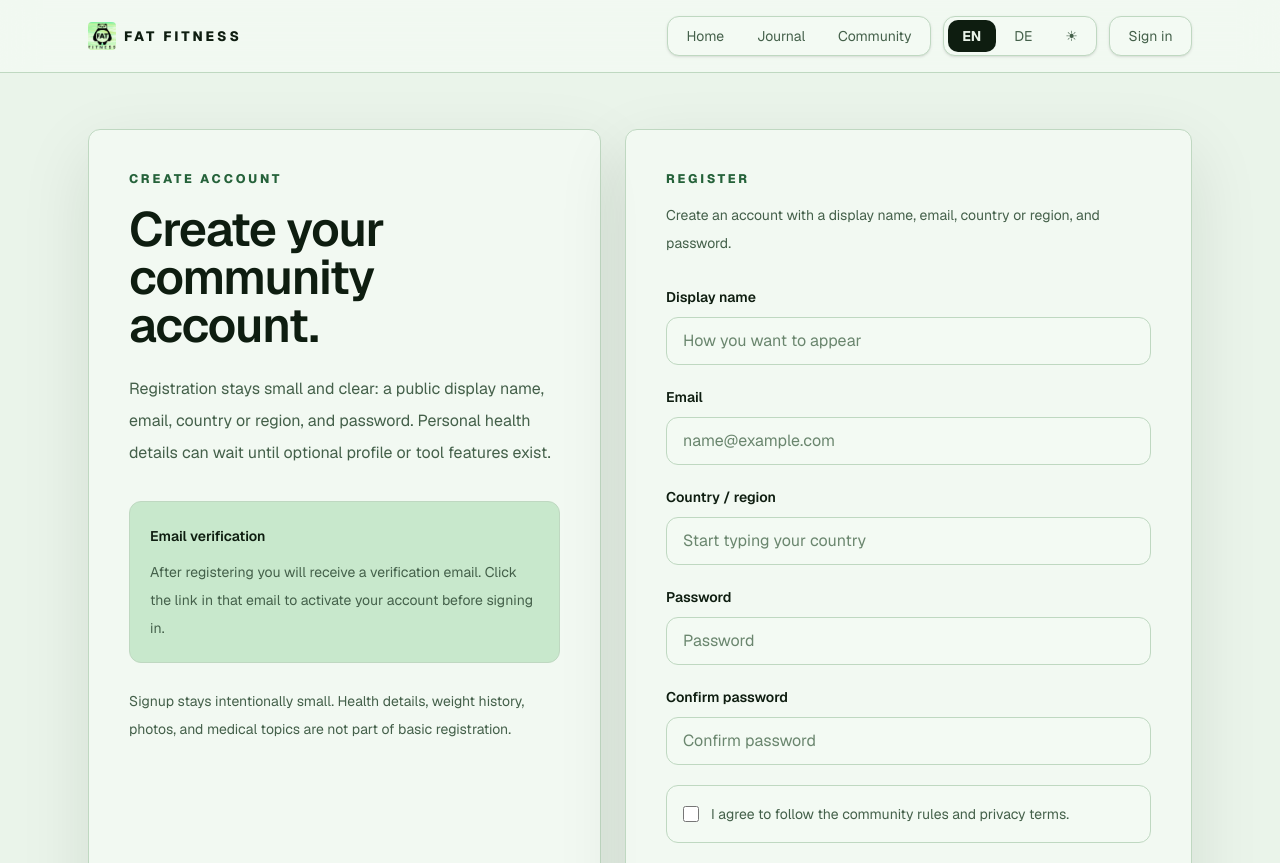
Scenario: AuthAccountView register validation › rejects mismatched passwords client-side
The image size is (1280, 863).
Type "New Member" into the field labelled "Display name". click: coordinates (908, 341)
box: [666, 317, 1151, 365]
Type "new-member@example.com" into the field labelled "Email". click: coordinates (908, 441)
box: [666, 417, 1151, 465]
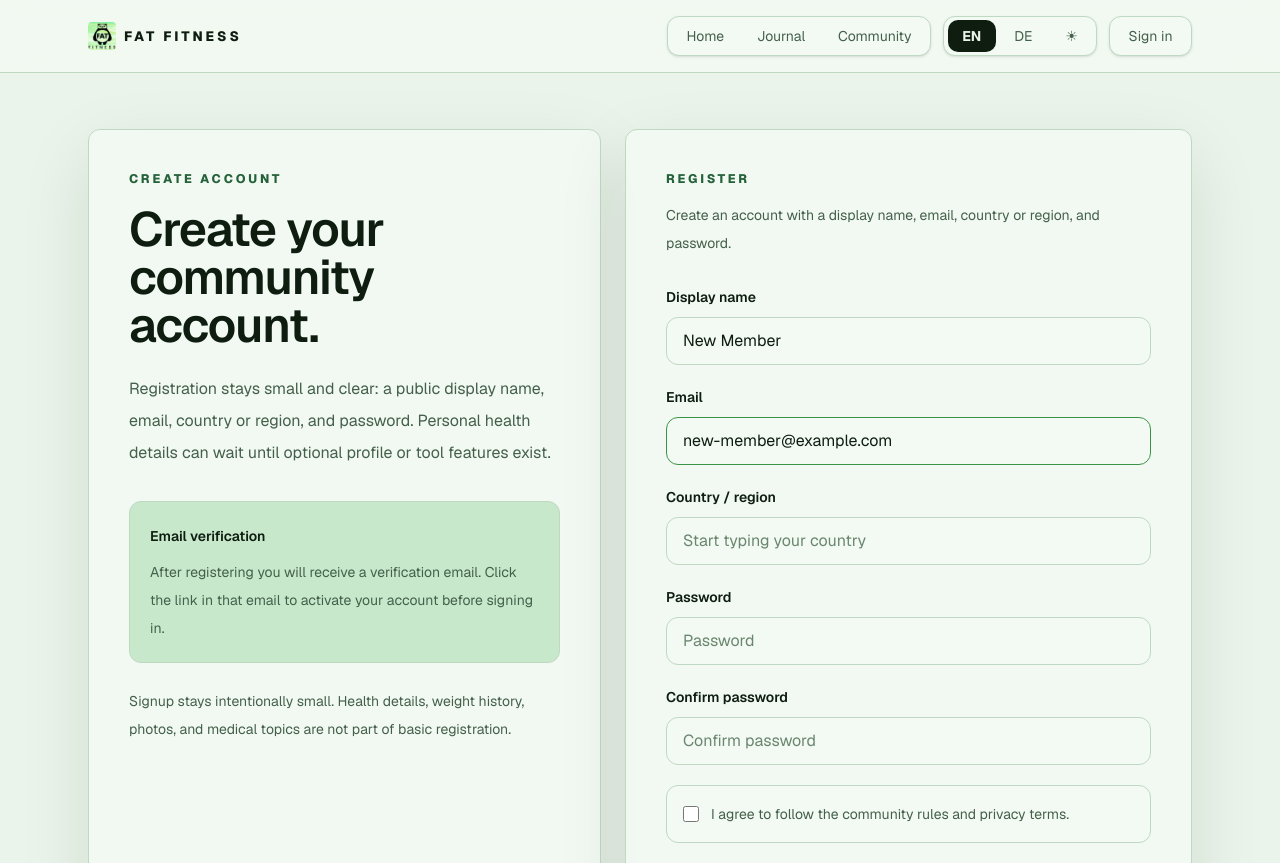
Type "very-secret-password" into the password field labelled "Password". click: coordinates (908, 641)
box: [666, 617, 1151, 665]
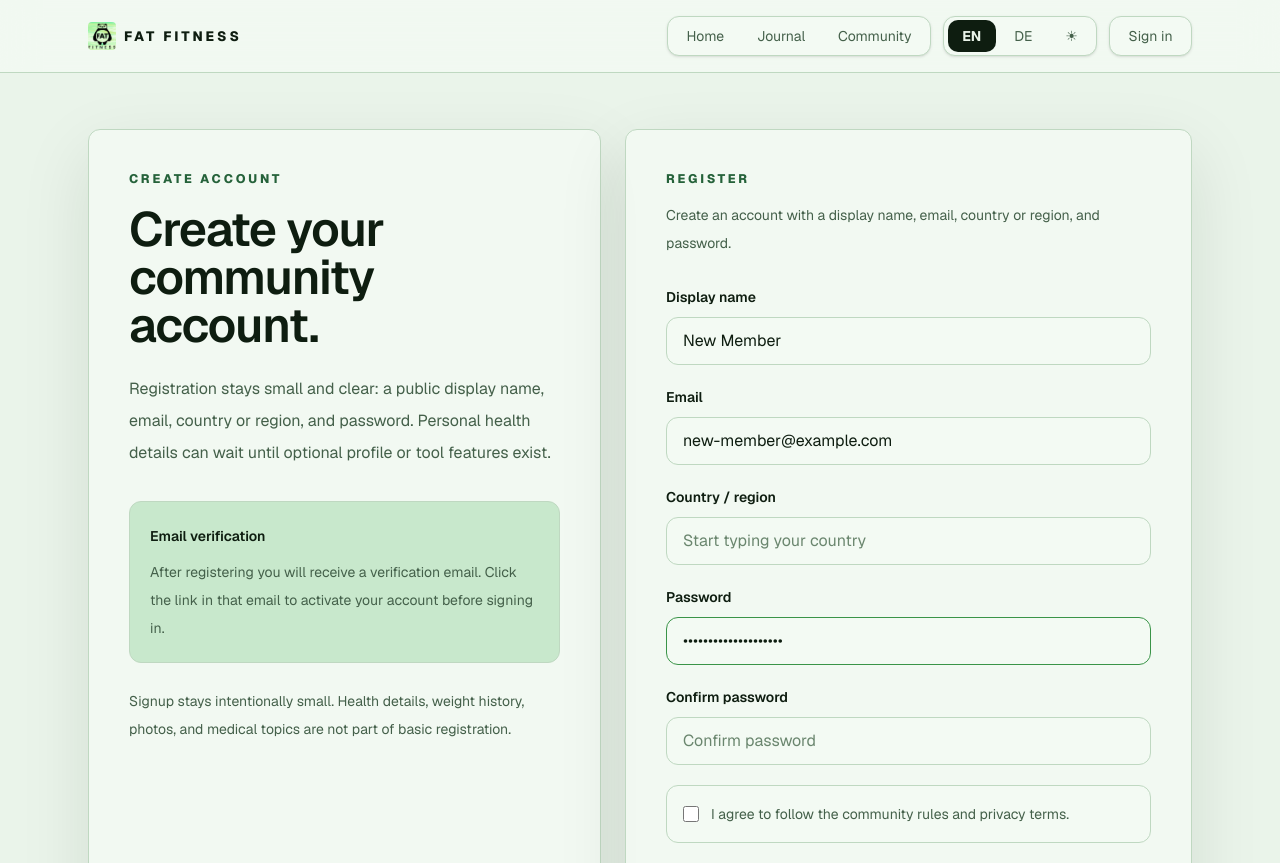
Type "a-different-password" into the password field labelled "Confirm password". click: coordinates (908, 741)
box: [666, 717, 1151, 765]
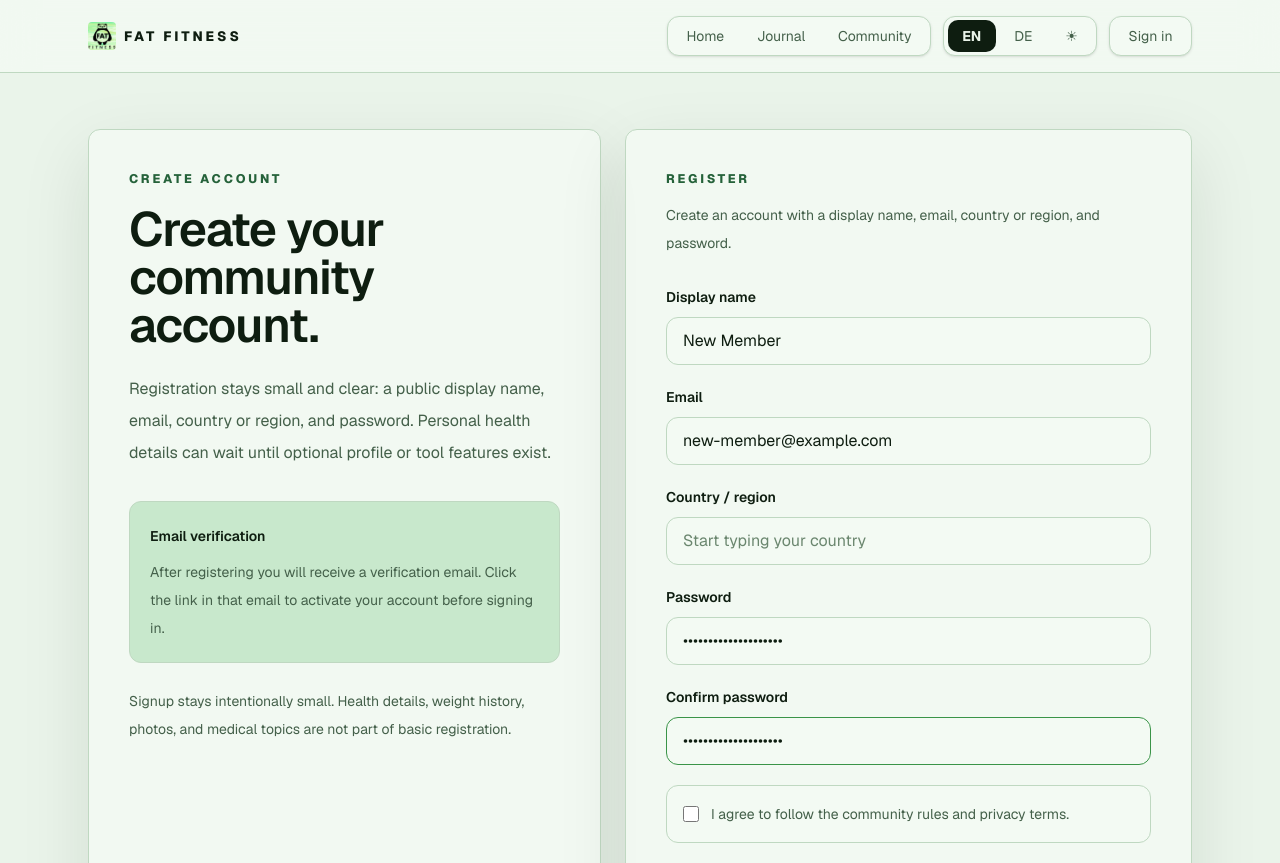
Type "germ" into the dropdown labelled "Country / region". click: coordinates (908, 541)
box: [666, 517, 1151, 565]
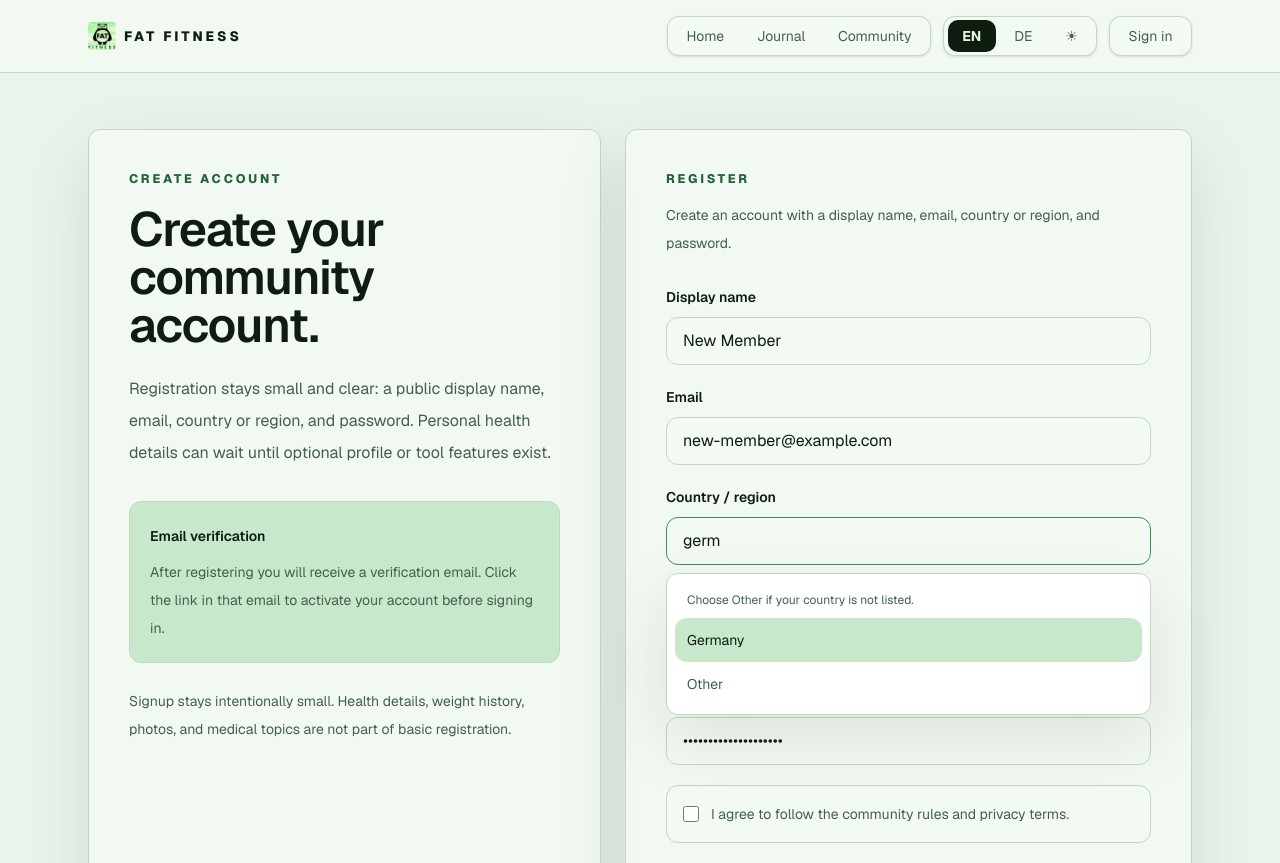
Click the option "Germany". click: coordinates (716, 640)
box: [675, 618, 1142, 662]
(page scrolled)
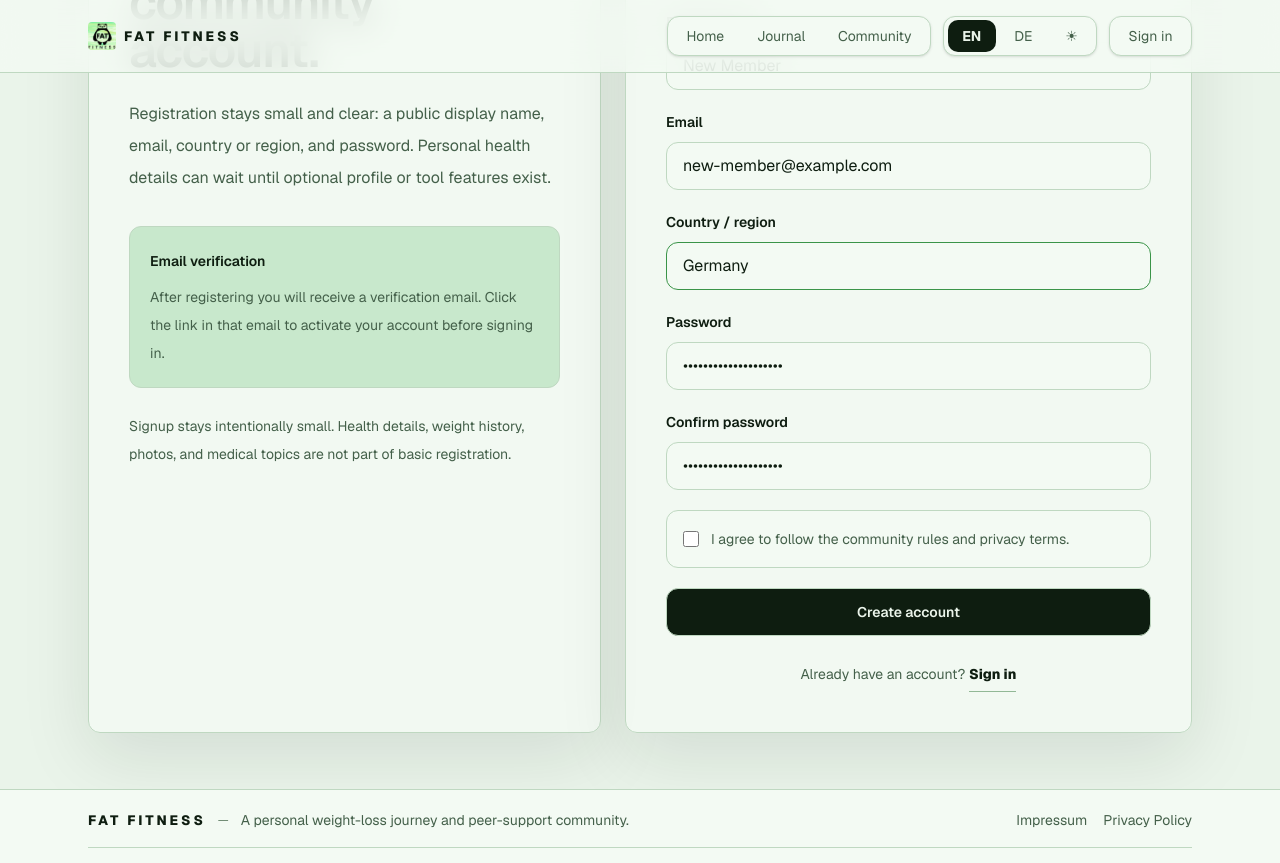
Click the button "Create account". click: coordinates (908, 612)
box: [666, 588, 1151, 636]
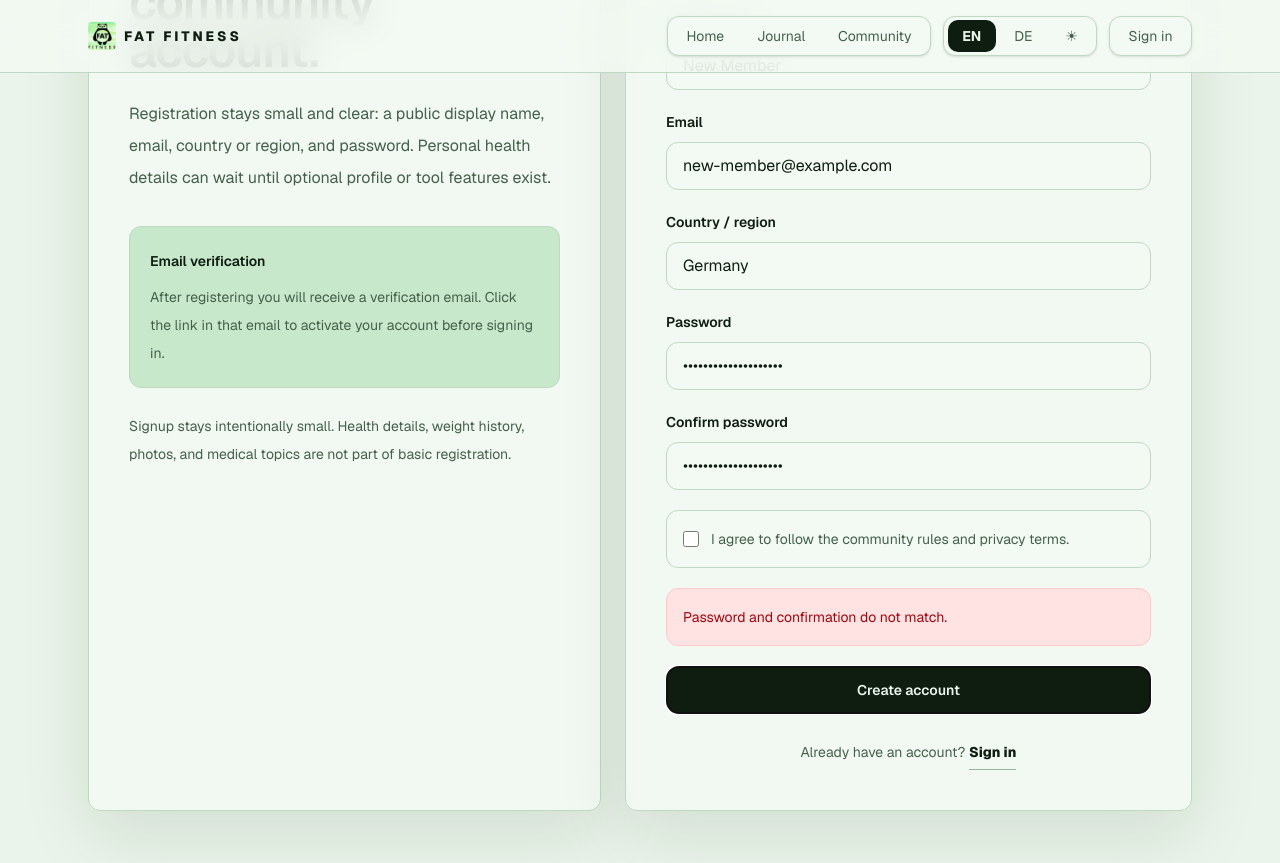
Check: the message reads "Password and confirmation do not match.", box [683, 608, 947, 626]
